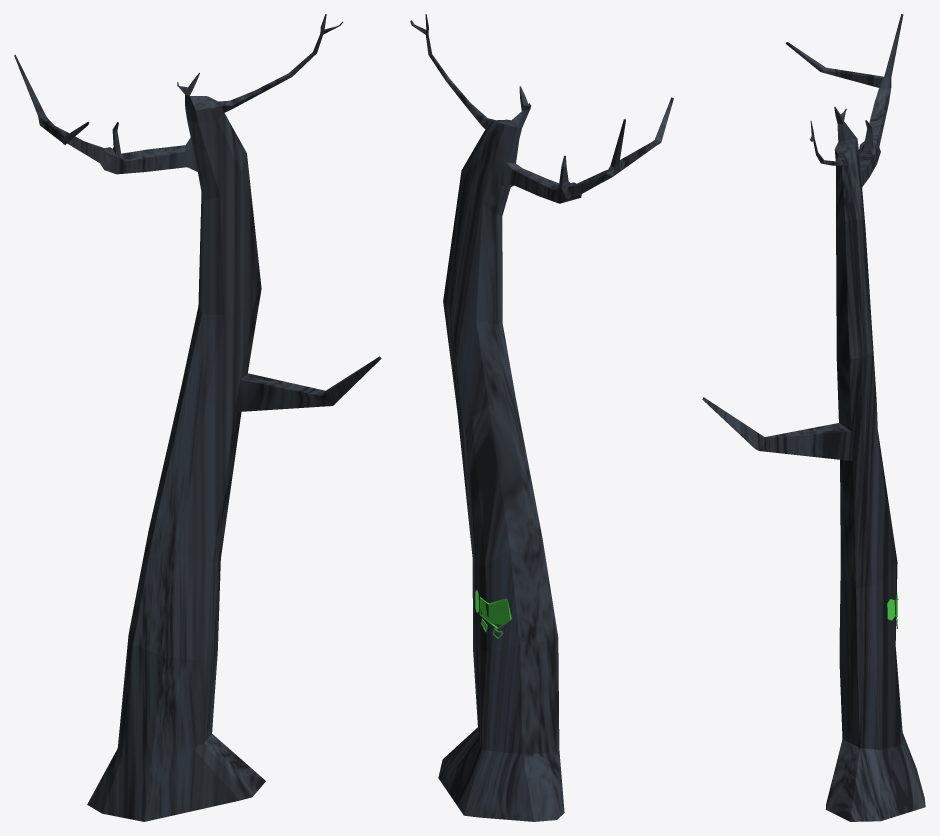
File: F_Tree_2 (1).fbx
The picture shows the model from 3 angles, left to right: view 1: azimuth 30°, elevation 25°; view 2: azimuth 150°, elevation 25°; view 3: azimuth 270°, elevation 25°; orthographic projection. The views are drawn at different scales.
Parts seen in each view (by area): view 1: Plane; view 2: Plane, Plane.001; view 3: Plane.
Part boxes in pixels (bbox=[...]): Plane: bbox=[14, 14, 381, 821]; Plane: bbox=[410, 14, 673, 821]; Plane.001: bbox=[475, 590, 511, 638]; Plane: bbox=[702, 14, 925, 821].
Bounding box in the file's own units: 448 × 1205 × 333.
